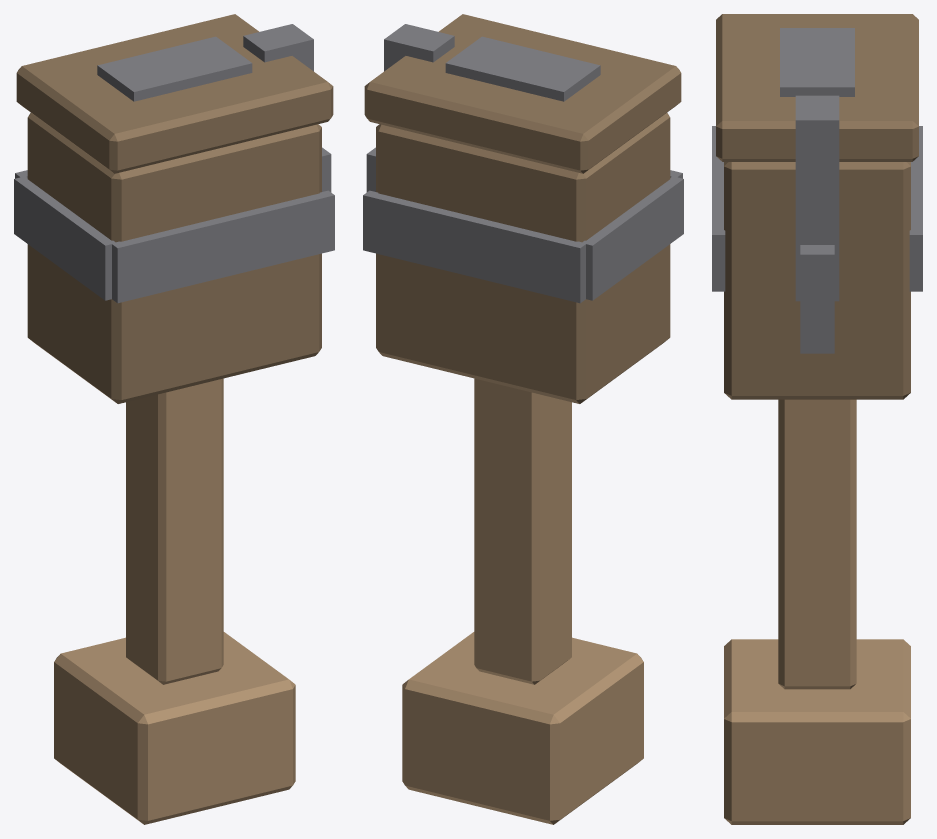
File: prop-alms-box-wood.fbx
3 views of the same model, side by side, from view 1: azimuth 30°, elevation 25°; view 2: azimuth 150°, elevation 25°; view 3: azimuth 270°, elevation 25° (orthographic). The views are drawn at different scales.
Visible parts, largest first — view 1: prop-alms-box-wood; view 2: prop-alms-box-wood; view 3: prop-alms-box-wood.
Part boxes in pixels (x1,y1,x2,y2): prop-alms-box-wood: [14, 14, 334, 824]; prop-alms-box-wood: [363, 14, 683, 824]; prop-alms-box-wood: [712, 14, 922, 824].
Bounding box in the file's own units: 0.4 × 1.04 × 0.27.
